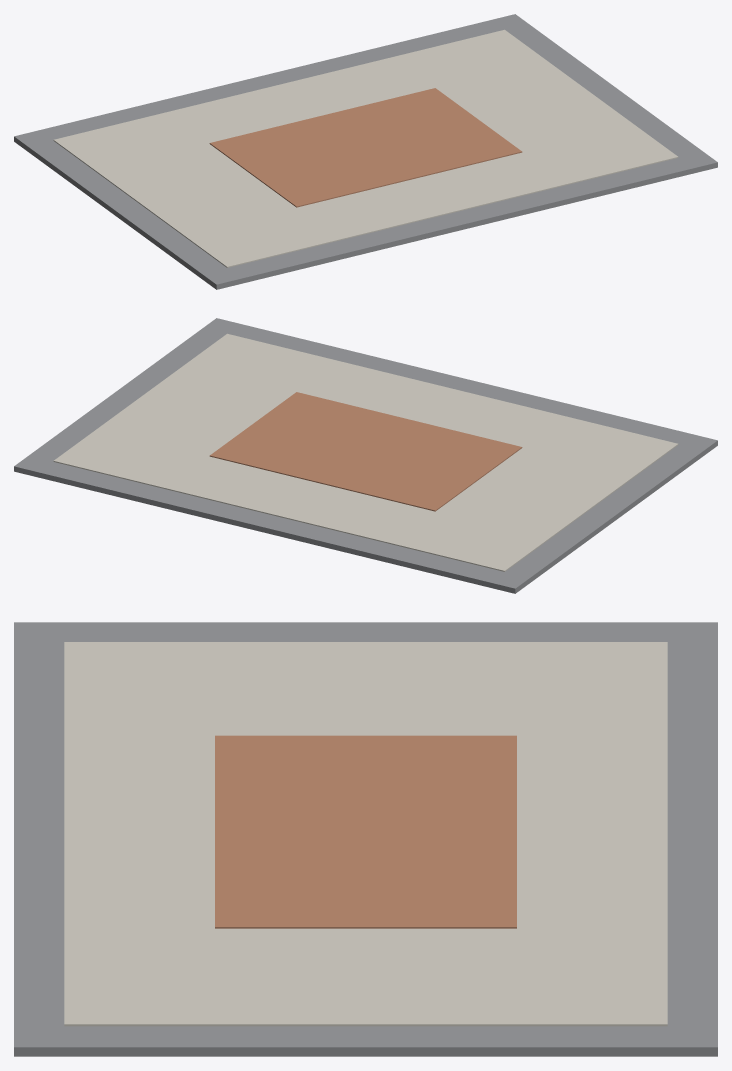
Rendered from piso_tapete_sala2.glb.
3 views of the same model, one above another, from view 1: azimuth 30°, elevation 25°; view 2: azimuth 150°, elevation 25°; view 3: azimuth 270°, elevation 25° (orthographic). The views are drawn at different scales.
Visible parts, largest first — view 1: PISO_TAPETE_SALA2_v01; view 2: PISO_TAPETE_SALA2_v01; view 3: PISO_TAPETE_SALA2_v01.
Boxes of the visible parts, x1,y1,x2,y2 form: PISO_TAPETE_SALA2_v01: [14, 14, 717, 289]; PISO_TAPETE_SALA2_v01: [14, 318, 717, 593]; PISO_TAPETE_SALA2_v01: [14, 622, 717, 1056].
Size of the model in its own units: 2 by 0.028 by 1.4.
